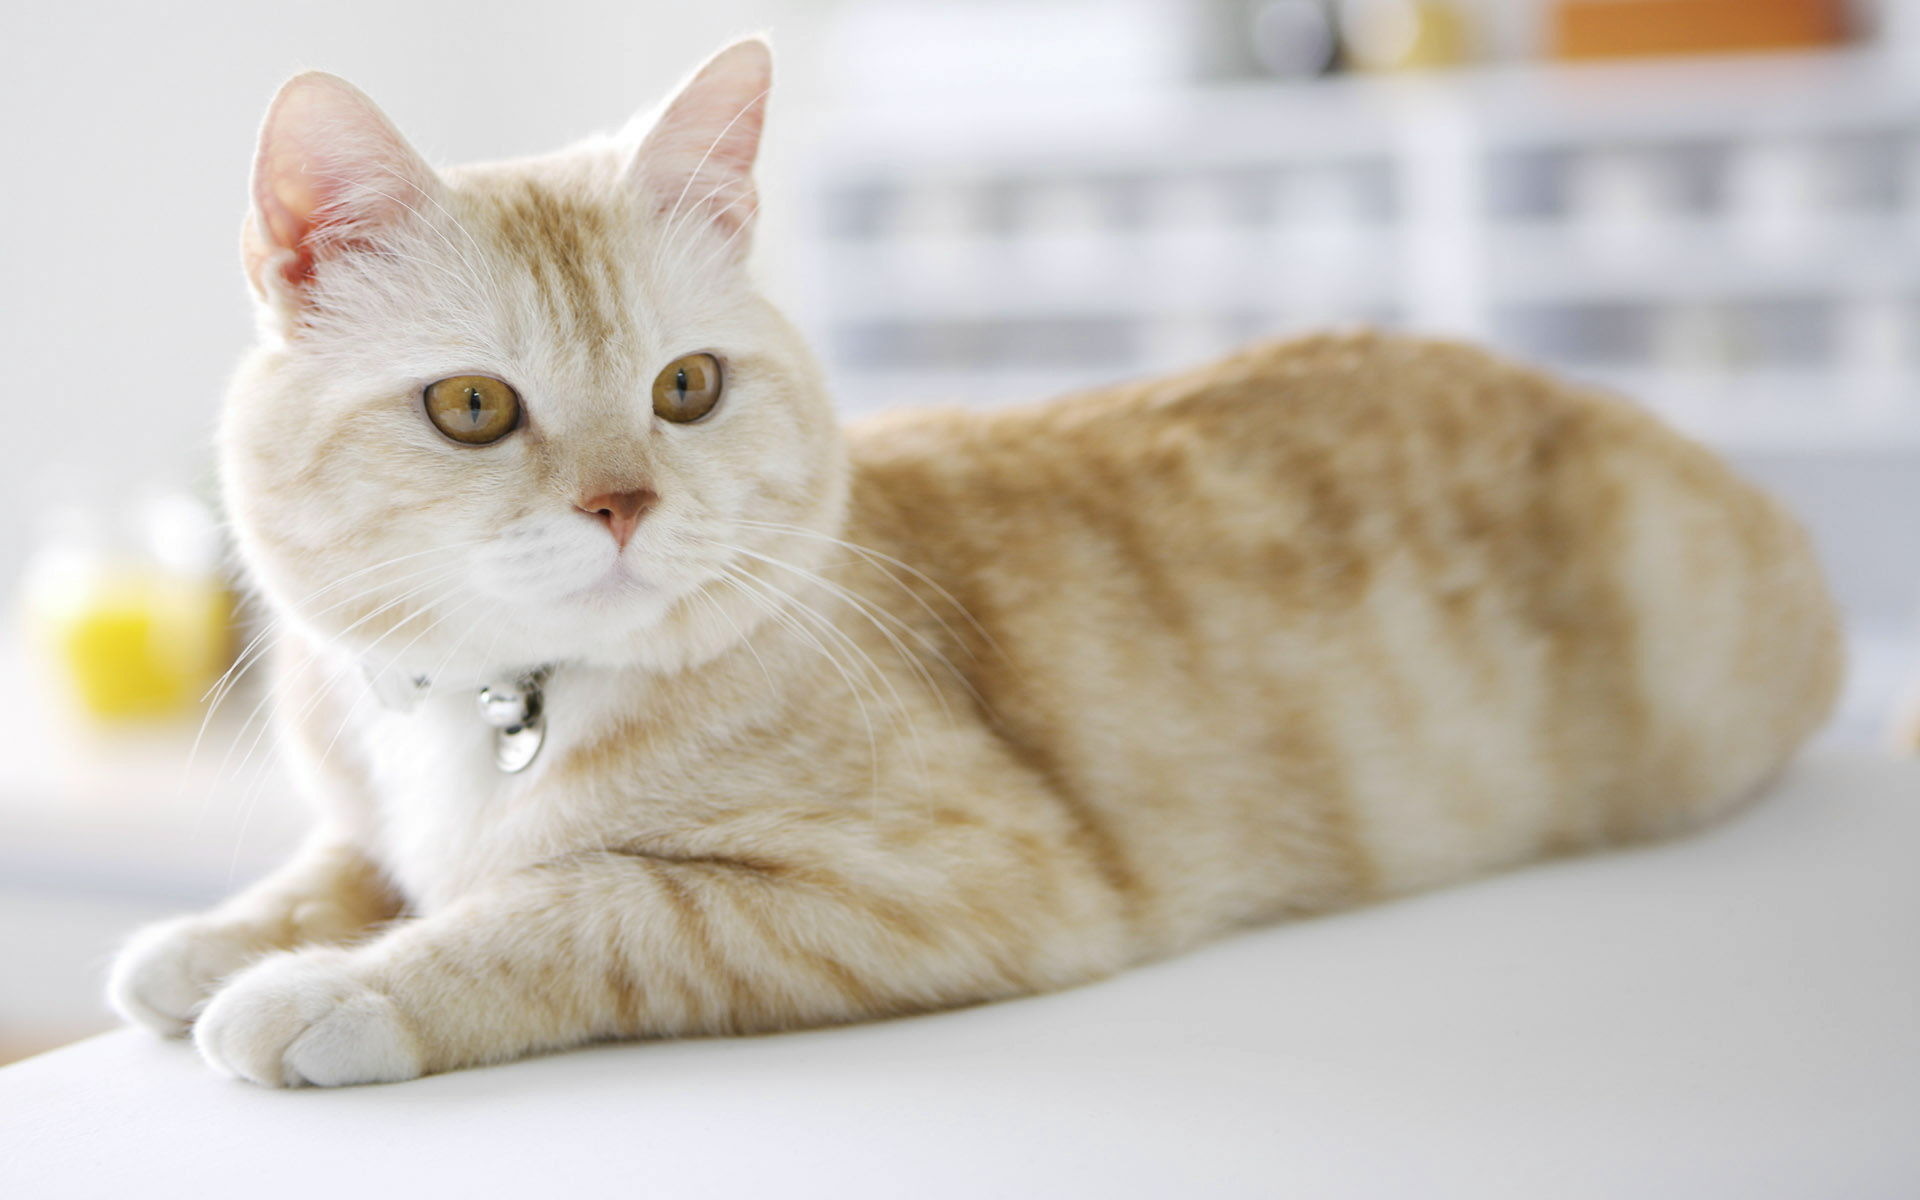cat: (111, 33, 1845, 1088)
